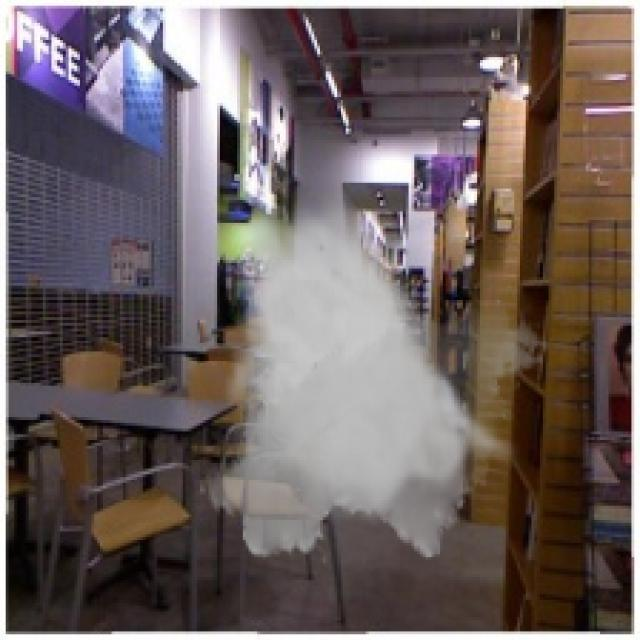Smoke: (197, 188, 552, 568)
